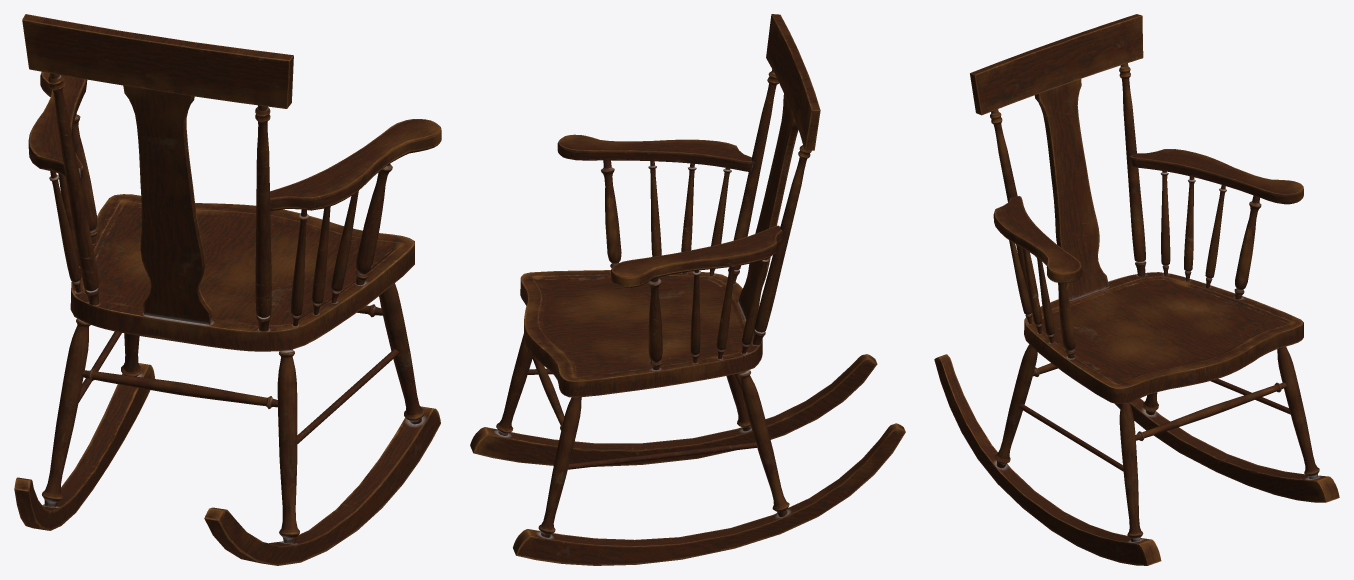
The model's file is SM_PH_Rockingchair_01.fbx.
3 views of the same model, side by side, from view 1: azimuth 30°, elevation 25°; view 2: azimuth 150°, elevation 25°; view 3: azimuth 270°, elevation 25° (orthographic). The views are drawn at different scales.
Visible parts, largest first — view 1: SM_PH_Rockingchair_01; view 2: SM_PH_Rockingchair_01; view 3: SM_PH_Rockingchair_01.
Boxes of the visible parts, box(x1,y1,x2,y2) form: SM_PH_Rockingchair_01: box(14, 14, 441, 565); SM_PH_Rockingchair_01: box(470, 14, 905, 565); SM_PH_Rockingchair_01: box(934, 14, 1339, 565).
Size of the model in its own units: 0.9309 by 0.8842 by 0.9949.
1 material, 1 textured.
